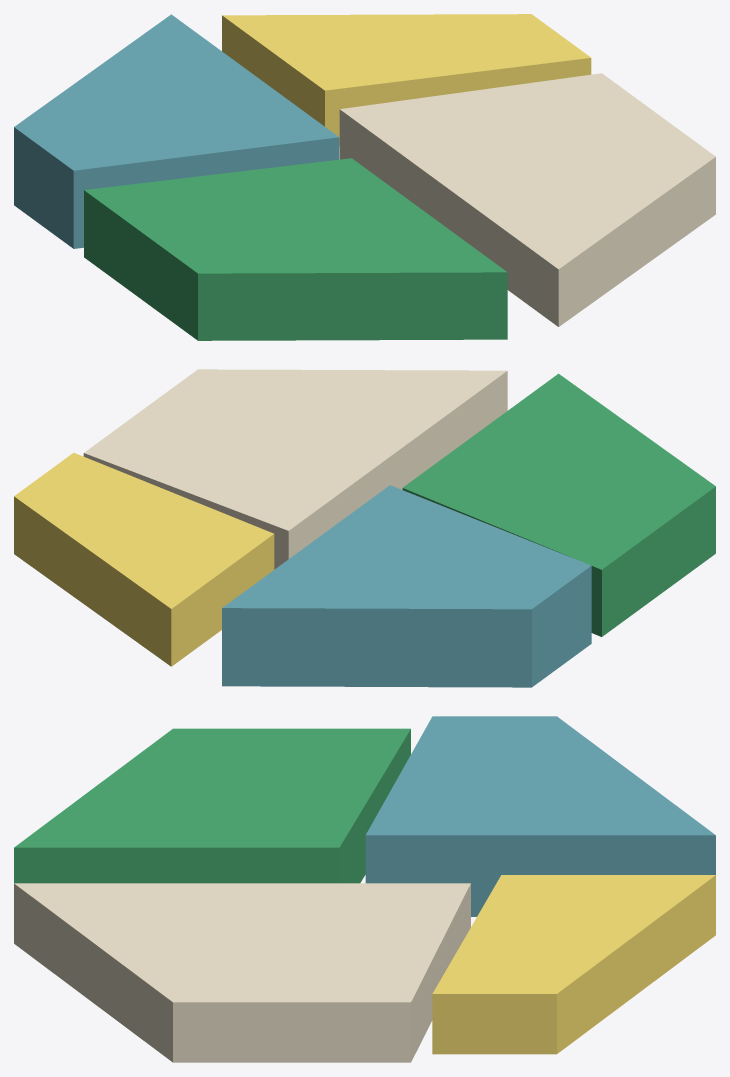
Rendered from M_Farm_var1_6.fbx.
3 renders of one model, top to bottom at view 1: azimuth 30°, elevation 25°; view 2: azimuth 150°, elevation 25°; view 3: azimuth 270°, elevation 25°, orthographic. The views are drawn at different scales.
Visible parts, largest first — view 1: M_Farm_var1_6; view 2: M_Farm_var1_6; view 3: M_Farm_var1_6.
Boxes of the visible parts, box(x1,y1,x2,y2) form: M_Farm_var1_6: box(14, 14, 715, 340); M_Farm_var1_6: box(14, 369, 715, 687); M_Farm_var1_6: box(14, 716, 715, 1062).
Bounding box in the file's own units: 1.36 × 0.1991 × 1.54.
